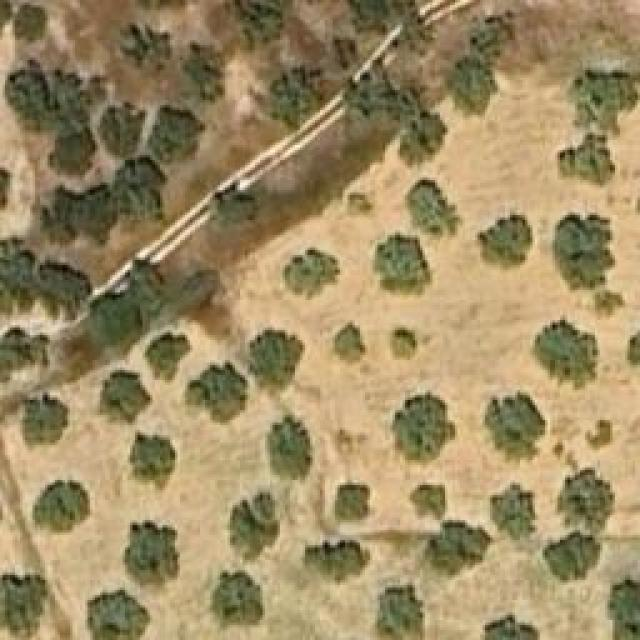Tree: (5, 58, 83, 133), (530, 315, 603, 390), (33, 183, 113, 243), (553, 212, 613, 290), (393, 392, 458, 460), (485, 390, 545, 460), (185, 363, 248, 426), (463, 215, 533, 270), (245, 330, 305, 393), (418, 523, 493, 573), (575, 67, 630, 135), (90, 372, 153, 430), (147, 105, 205, 165), (83, 297, 144, 354), (210, 570, 265, 633), (228, 492, 278, 560), (32, 475, 90, 533), (125, 520, 178, 583), (115, 158, 168, 221), (0, 572, 48, 640), (88, 590, 153, 640), (350, 68, 413, 119), (282, 248, 340, 301), (268, 418, 313, 483), (408, 180, 461, 235), (378, 235, 431, 290), (555, 470, 608, 525), (440, 52, 490, 110), (130, 430, 178, 490), (377, 582, 425, 640), (97, 100, 145, 158), (0, 324, 52, 377), (263, 68, 313, 123), (490, 483, 535, 543), (33, 258, 86, 308), (315, 540, 370, 585), (48, 127, 98, 175), (397, 110, 445, 160), (548, 533, 601, 578), (118, 23, 171, 68), (145, 332, 193, 380), (562, 135, 610, 183), (185, 42, 223, 100), (233, 0, 278, 45), (348, 0, 413, 30), (23, 398, 66, 443), (610, 580, 640, 640), (210, 188, 253, 228), (408, 483, 455, 519), (482, 615, 540, 640), (335, 485, 370, 520), (335, 323, 365, 363), (15, 5, 48, 40), (388, 325, 418, 360), (588, 420, 613, 448)
